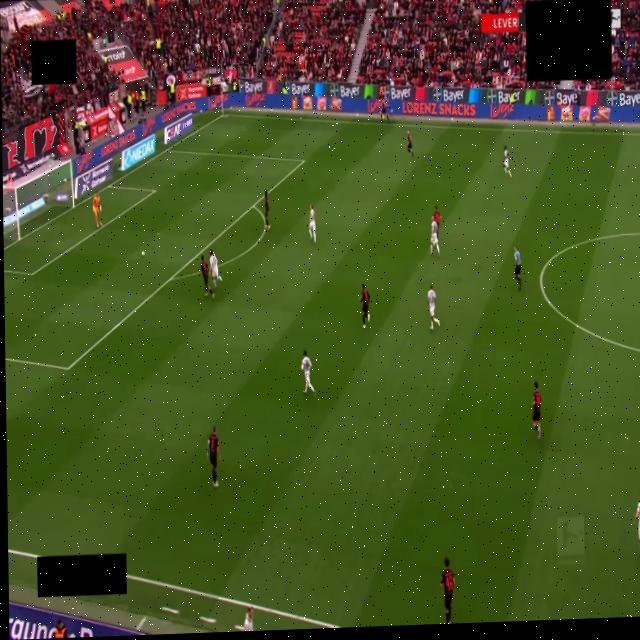ball: (141, 251, 145, 257)
player: (441, 558, 455, 623), (207, 427, 219, 487), (302, 350, 315, 394), (532, 381, 541, 440), (201, 257, 214, 297), (428, 285, 439, 329), (210, 249, 221, 287), (361, 284, 370, 328), (430, 220, 439, 255), (93, 194, 102, 228), (309, 205, 316, 244), (504, 147, 511, 178), (634, 502, 639, 543), (265, 190, 270, 230), (407, 130, 413, 157), (433, 207, 440, 227)
referee: (514, 246, 522, 291)
